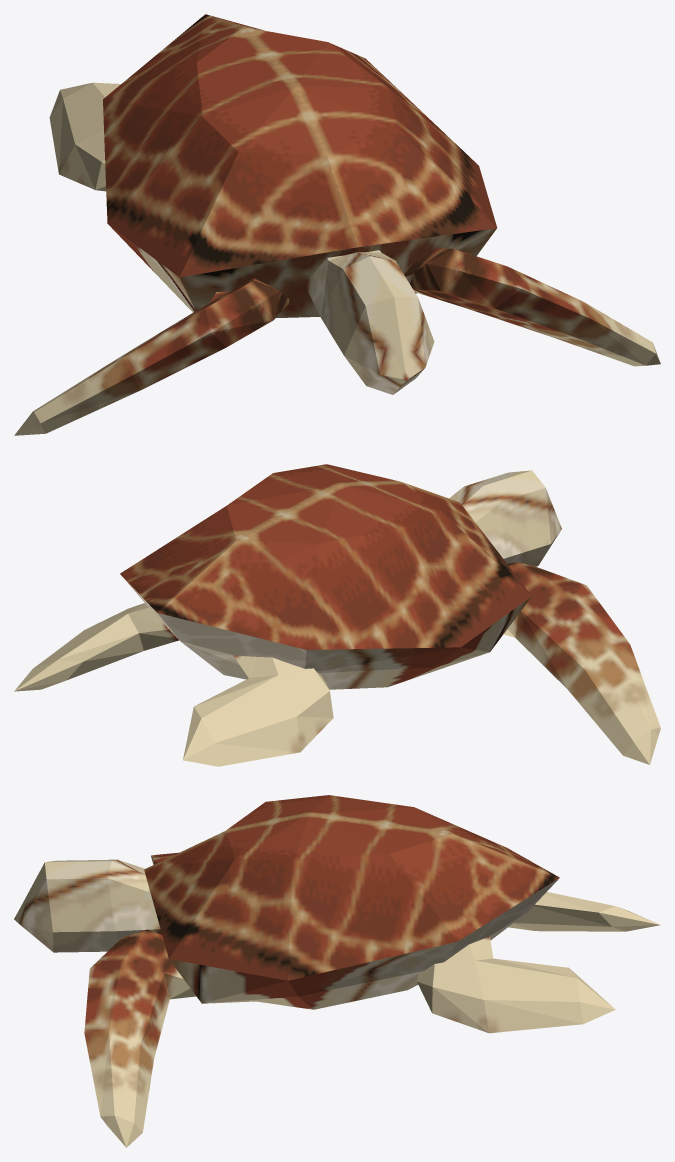
The model's file is Sea_Turtle.obj.
3 views of the same model, one above another, from view 1: azimuth 30°, elevation 25°; view 2: azimuth 150°, elevation 25°; view 3: azimuth 270°, elevation 25° (orthographic). The views are drawn at different scales.
Visible parts, largest first — view 1: Mesh-29; view 2: Mesh-29; view 3: Mesh-29.
Boxes of the visible parts, box(x1,y1,x2,y2) form: Mesh-29: box(14, 14, 660, 435); Mesh-29: box(14, 464, 660, 766); Mesh-29: box(14, 795, 660, 1147).
Size of the model in its own units: 6.21 by 2.74 by 7.12.
1 material, 1 textured.
